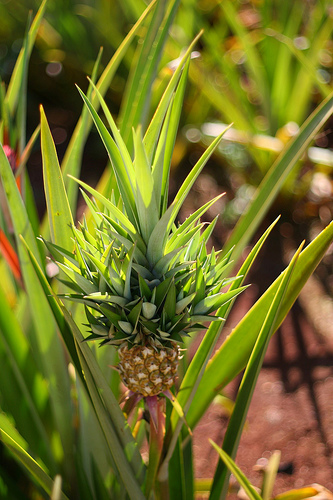pineapple: (35, 75, 251, 398)
